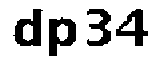3: (81, 7, 113, 50)
4: (115, 7, 152, 49)
d: (11, 4, 43, 50)
p: (45, 16, 79, 60)
